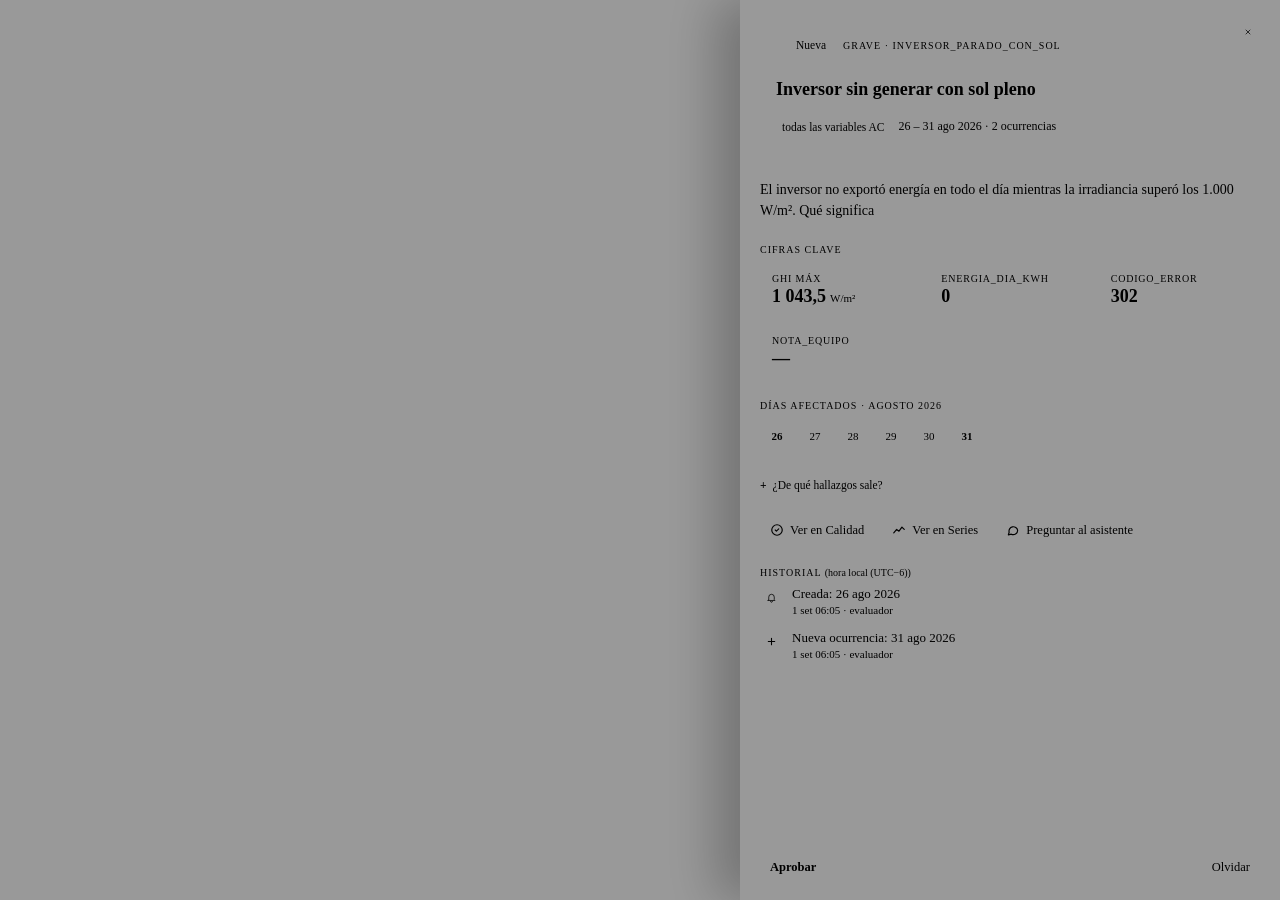
la ficha de una alerta › un 409 transicion_invalida explica el estado real y refresca la ficha
Click the button "Aprobar".
click(793, 867)  # box [760,852,826,882]
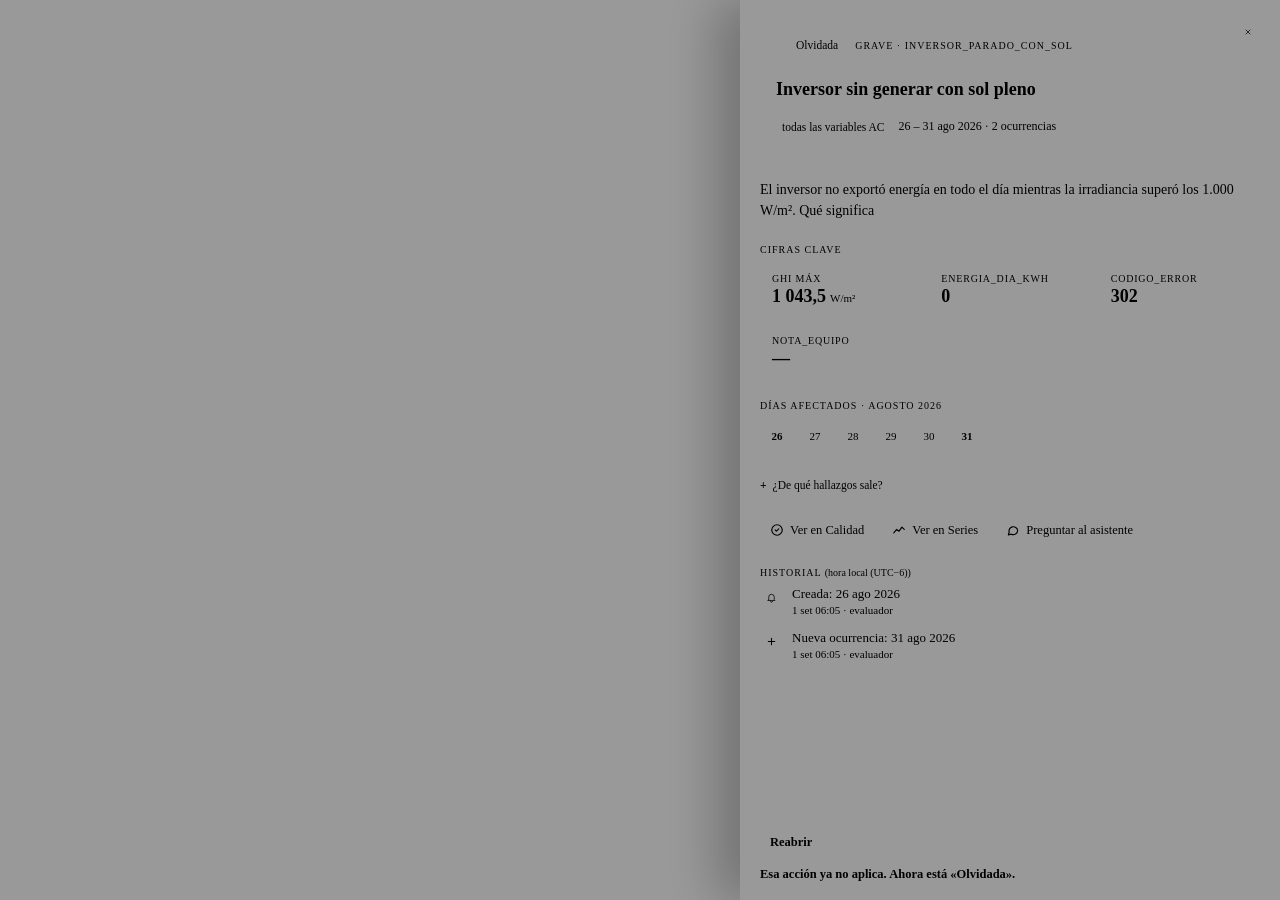
Check: the message reads "Esa acción ya no aplica. Ahora está «Olvidada».", box [760,867,1015,881]
Check: the button "Reabrir" is shown, box [760,827,822,857]
